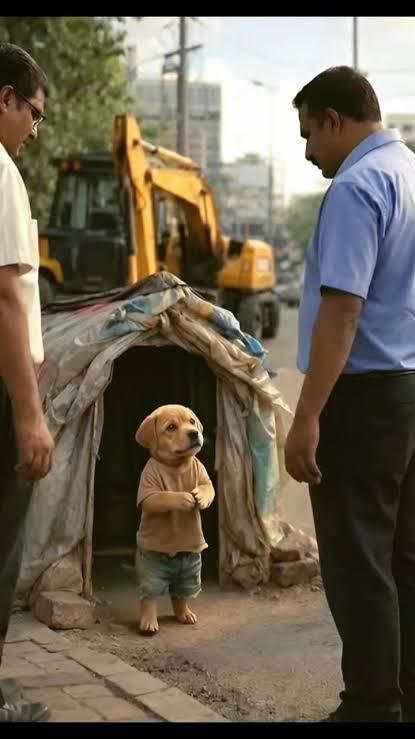non-dog: (284, 64, 415, 728), (0, 41, 59, 720)
puppy-dog: (133, 404, 215, 635)
